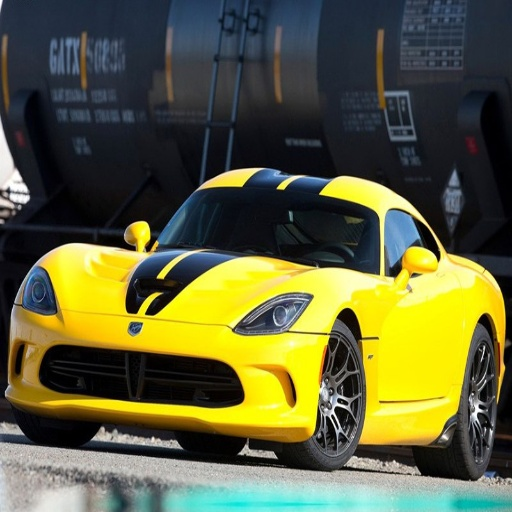front_bumper: (16, 327, 327, 441)
front_glass: (164, 186, 377, 269)
front_left_door: (377, 214, 446, 401)
front_left_light: (235, 292, 312, 335)
hood: (142, 249, 348, 297)
tailgate: (128, 279, 188, 313)
trunk: (61, 267, 160, 323)
